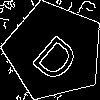D: (29, 26, 89, 85)
